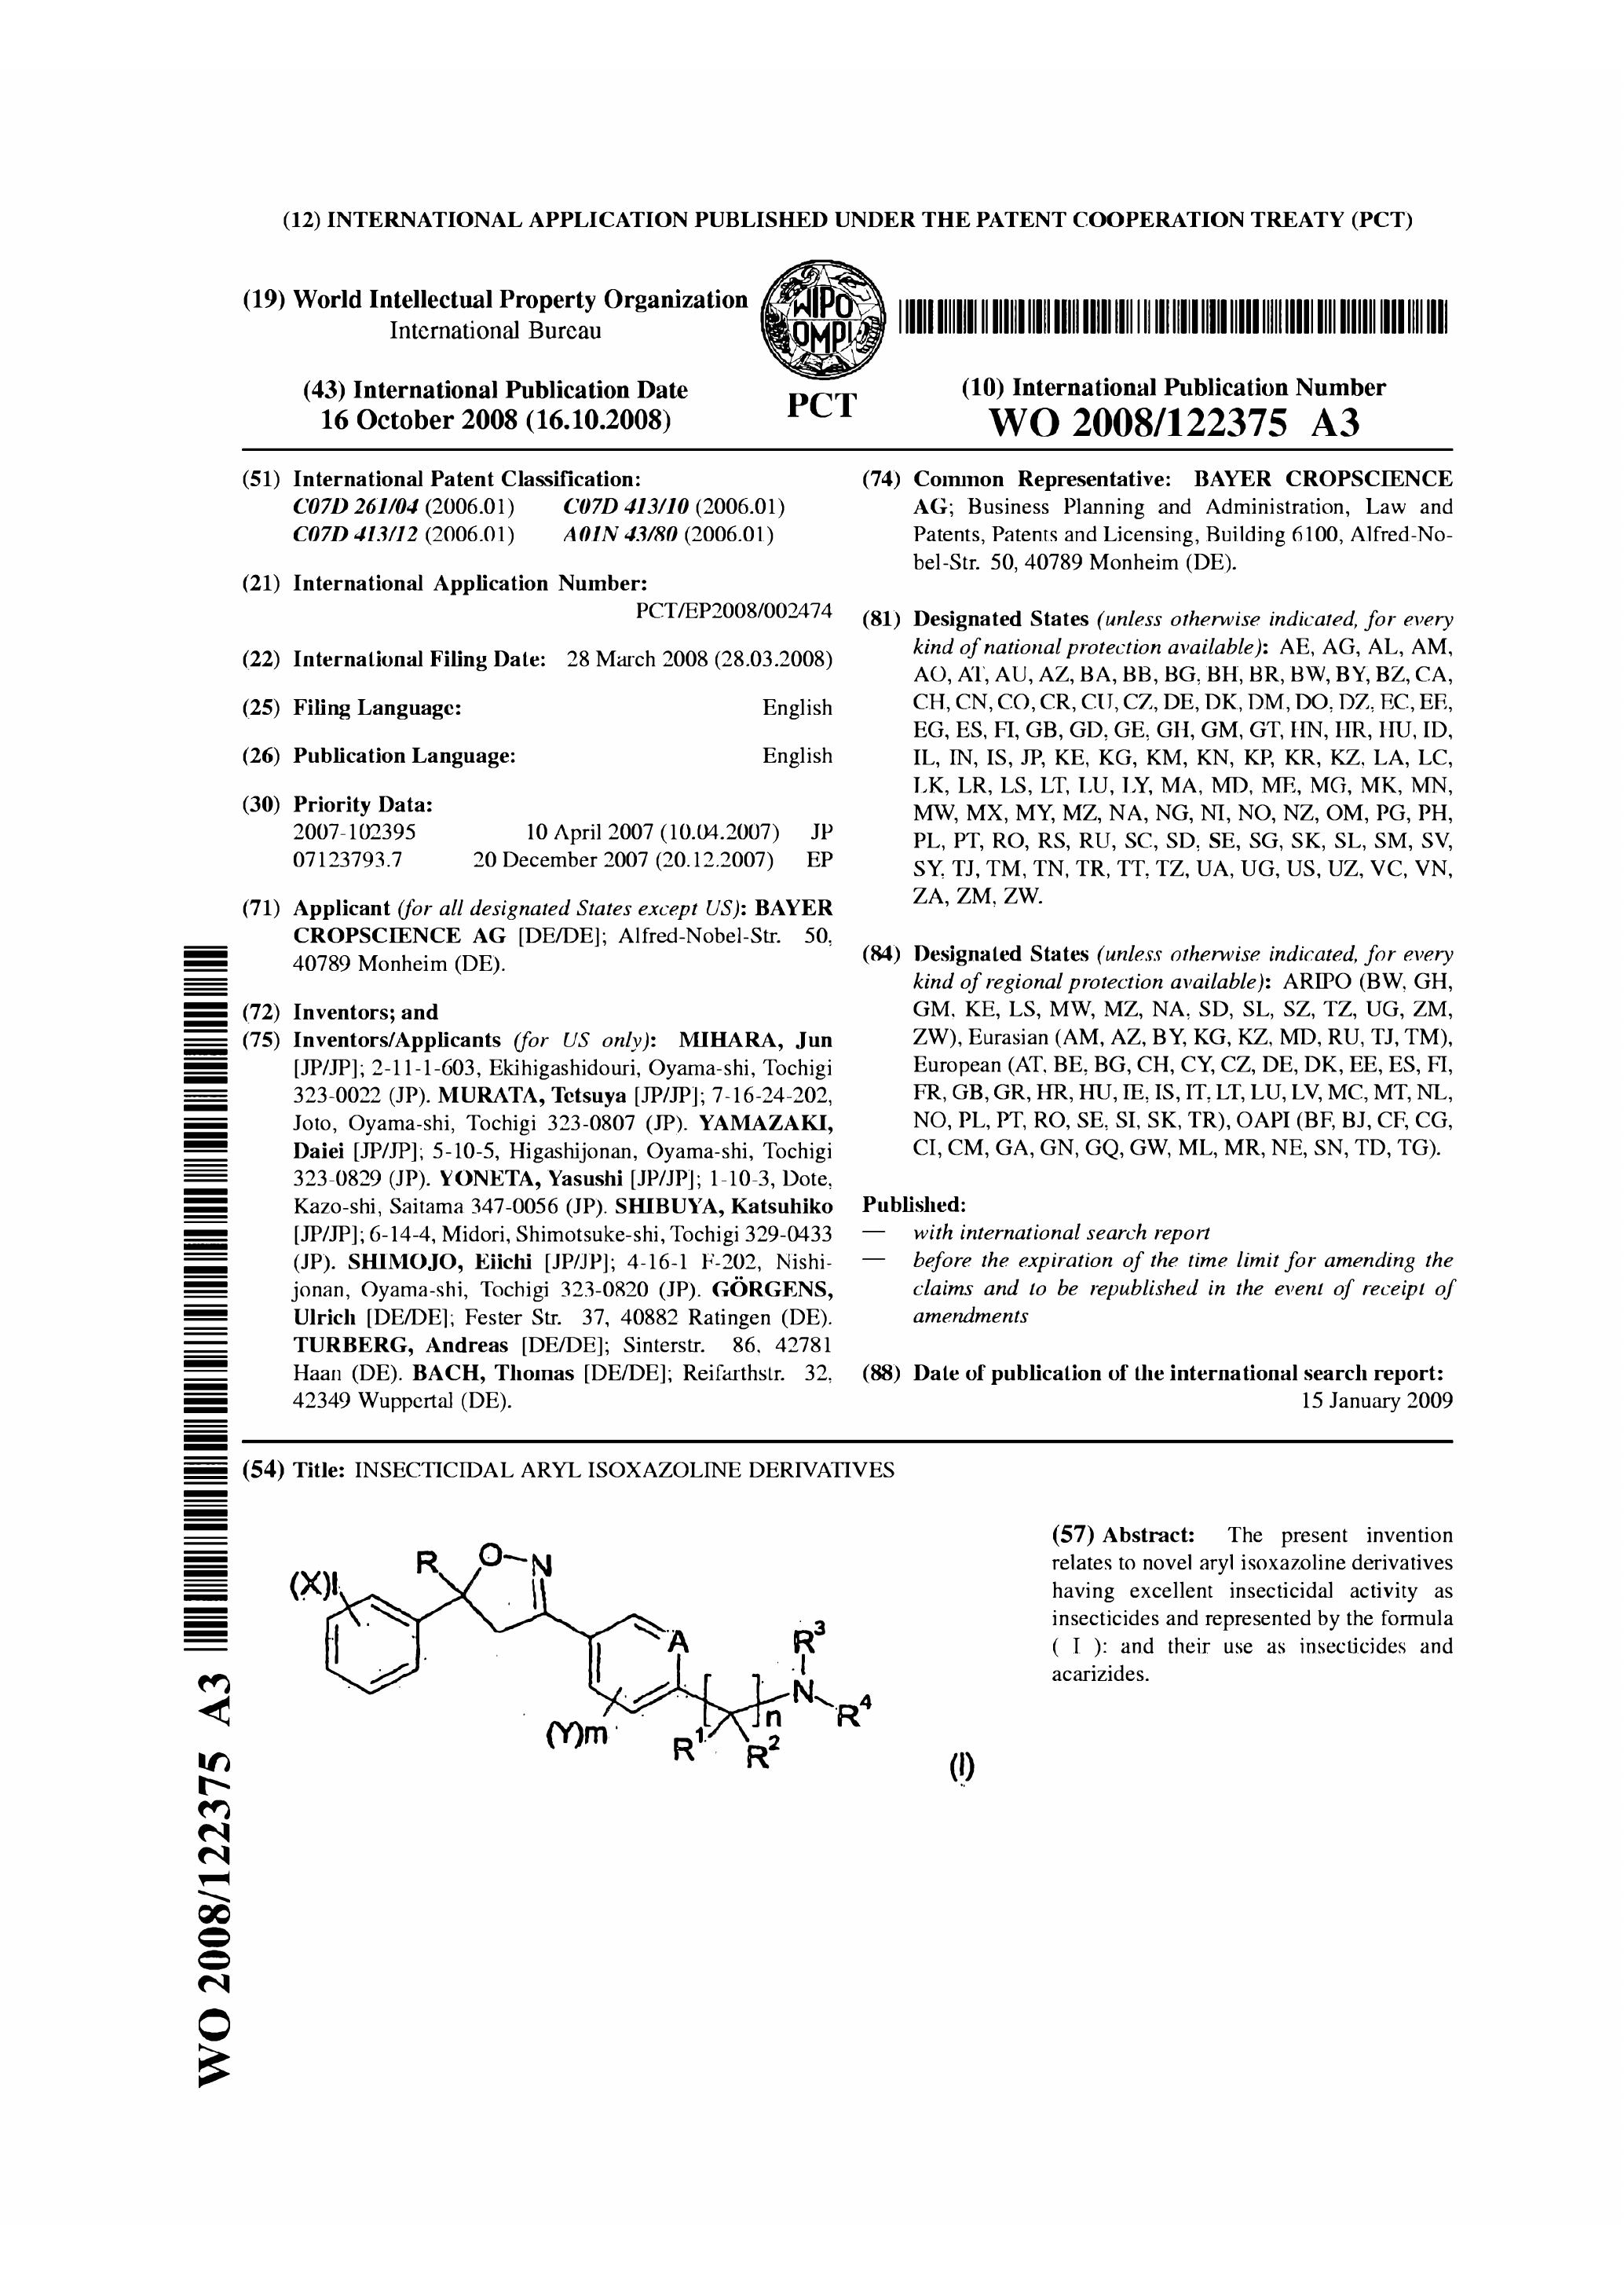markush-structures: (253, 1529, 875, 1804)
